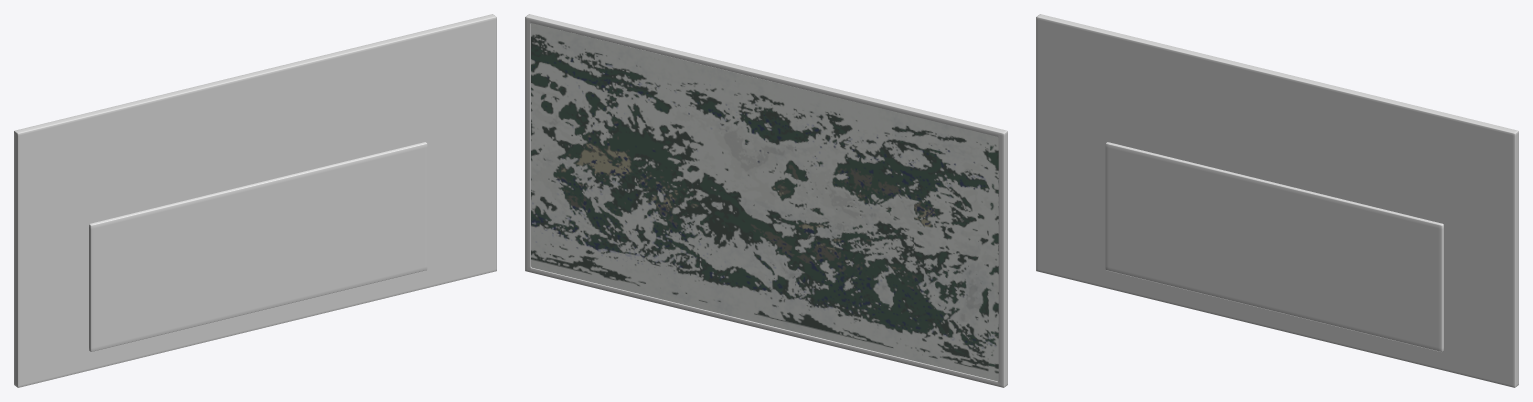
Rendered from SlimScreen.fbx.
The picture shows the model from 3 angles, left to right: view 1: azimuth 30°, elevation 25°; view 2: azimuth 150°, elevation 25°; view 3: azimuth 330°, elevation 25°; orthographic projection.
Visible parts, largest first — view 1: Screen; view 2: Plane, Screen; view 3: Screen.
Boxes of the visible parts, left/top/right/bottom form: Screen: left=14, top=14, right=496, bottom=387; Plane: left=531, top=23, right=998, bottom=381; Screen: left=525, top=14, right=1007, bottom=387; Screen: left=1036, top=14, right=1518, bottom=387.
Size of the model in its own units: 512 by 260 by 11.
